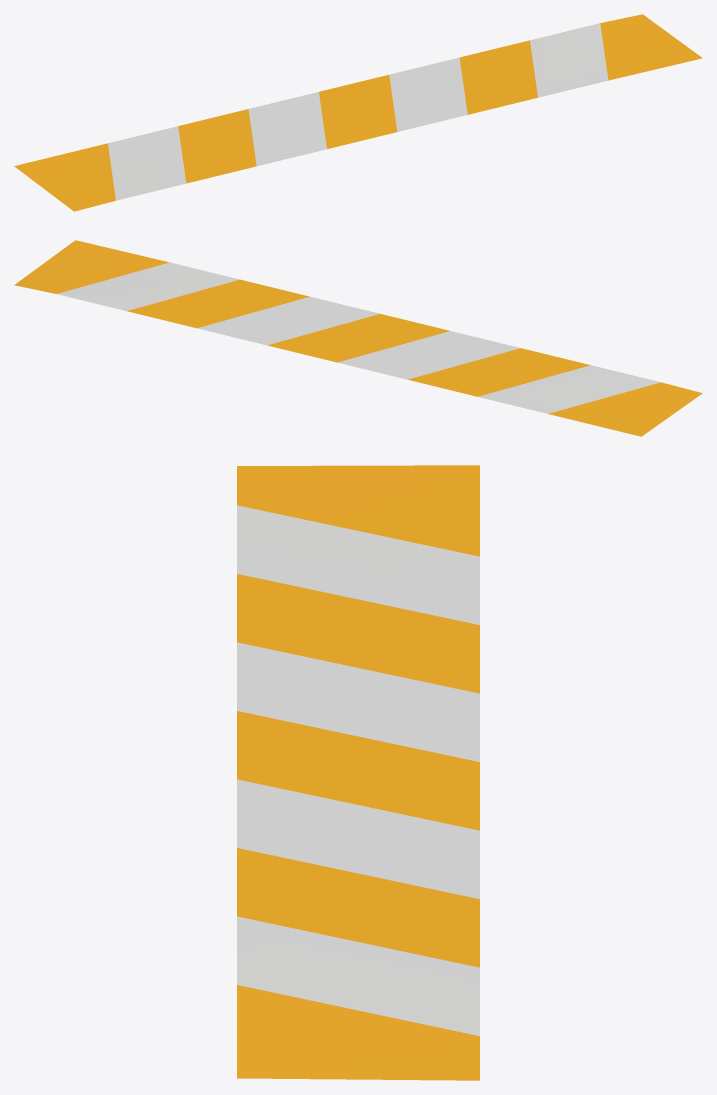
File: attention_tape.FBX
3 views of the same model, one above another, from view 1: azimuth 30°, elevation 25°; view 2: azimuth 150°, elevation 25°; view 3: azimuth 270°, elevation 25° (orthographic). The views are drawn at different scales.
Parts seen in each view (by area): view 1: attention_tape; view 2: attention_tape; view 3: attention_tape.
Boxes of the visible parts, x1,y1,x2,y2 form: attention_tape: (14, 14, 702, 211); attention_tape: (14, 240, 702, 436); attention_tape: (237, 465, 479, 1080).
Size of the model in its own units: 11.93 by 0.0274 by 2.
Materials: 1 (1 with a texture image).
